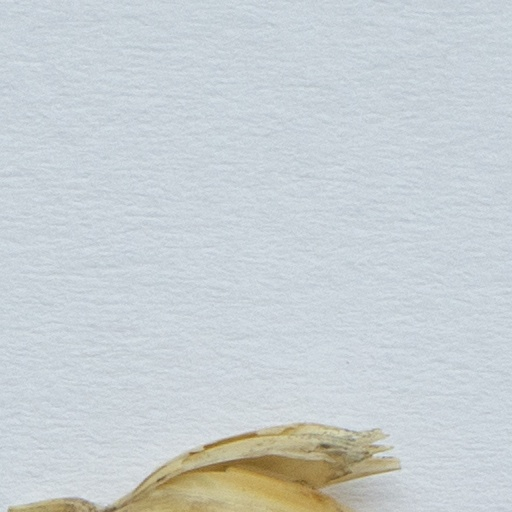Peel-poly: (0, 421, 400, 511)
